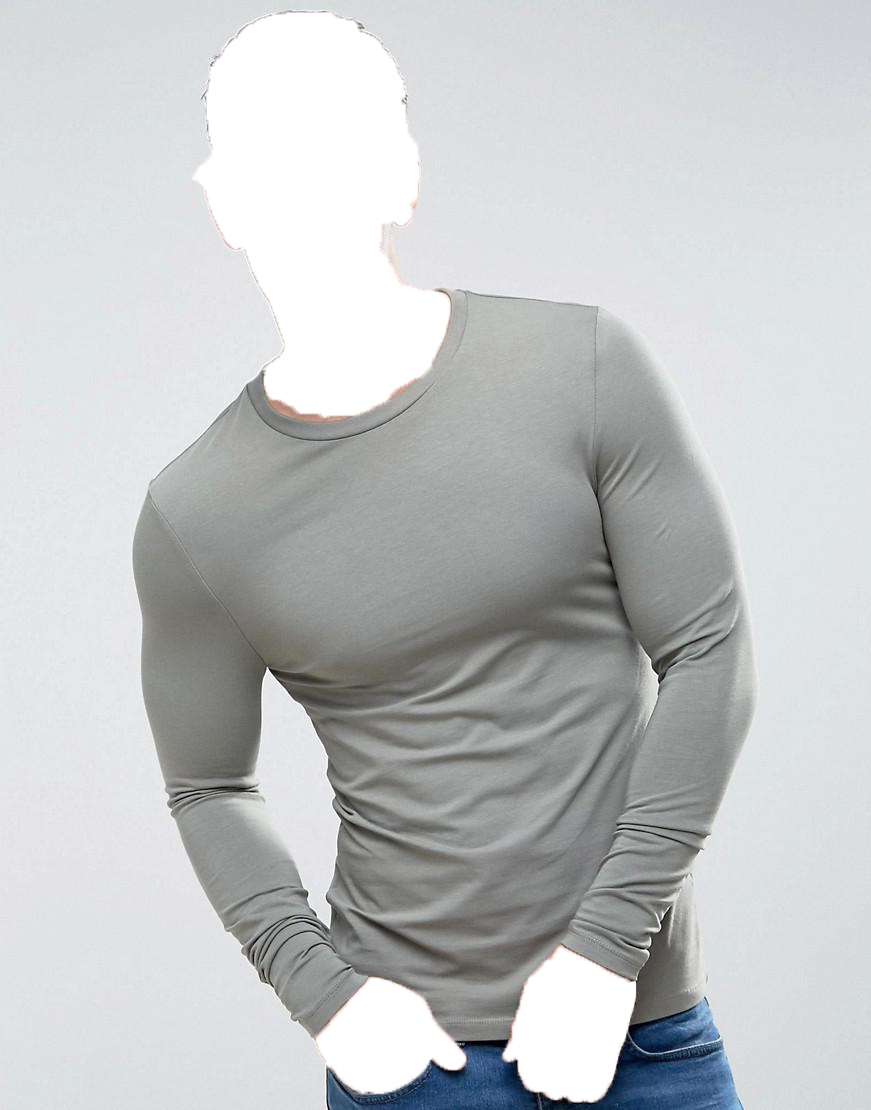teeshirt: (120, 288, 759, 1039)
